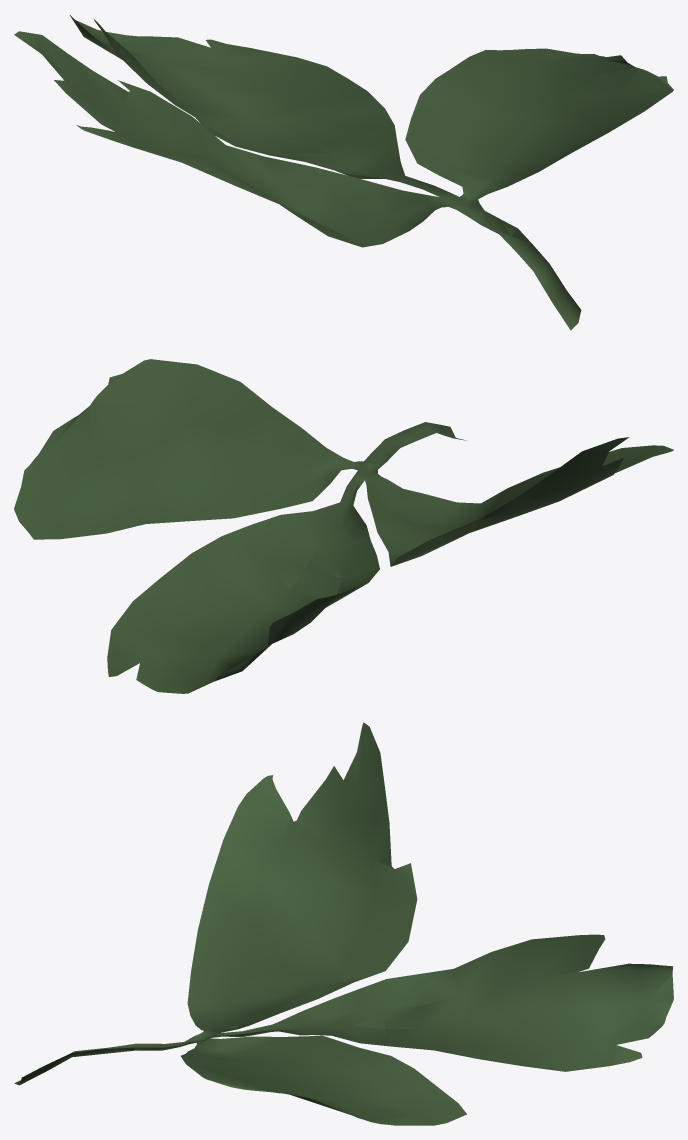
The picture shows the model from 3 angles, top to bottom: view 1: azimuth 30°, elevation 25°; view 2: azimuth 150°, elevation 25°; view 3: azimuth 270°, elevation 25°; orthographic projection. The views are drawn at different scales.
Visible parts, largest first — view 1: alt16.005; view 2: alt16.005; view 3: alt16.005.
Part boxes in pixels (left/top/right/bottom): alt16.005: left=14, top=15, right=673, bottom=330; alt16.005: left=14, top=359, right=673, bottom=693; alt16.005: left=14, top=722, right=673, bottom=1125.
Size of the model in its own units: 0.4529 by 0.174 by 0.5.
